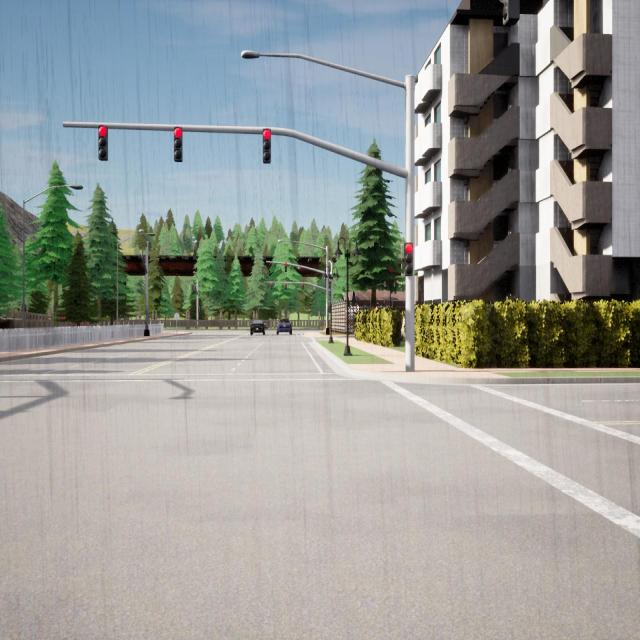Traffic_Signs: (174, 313, 179, 319)
Vehicle: (276, 318, 292, 334), (250, 320, 265, 335)
traffic_light: (499, 0, 519, 27), (98, 125, 108, 160), (174, 126, 183, 162), (404, 242, 413, 275), (263, 128, 271, 164), (285, 262, 287, 272), (193, 286, 195, 294), (270, 283, 272, 290), (285, 283, 287, 289), (302, 283, 304, 289), (192, 285, 193, 293), (195, 287, 196, 293), (198, 307, 199, 312)
